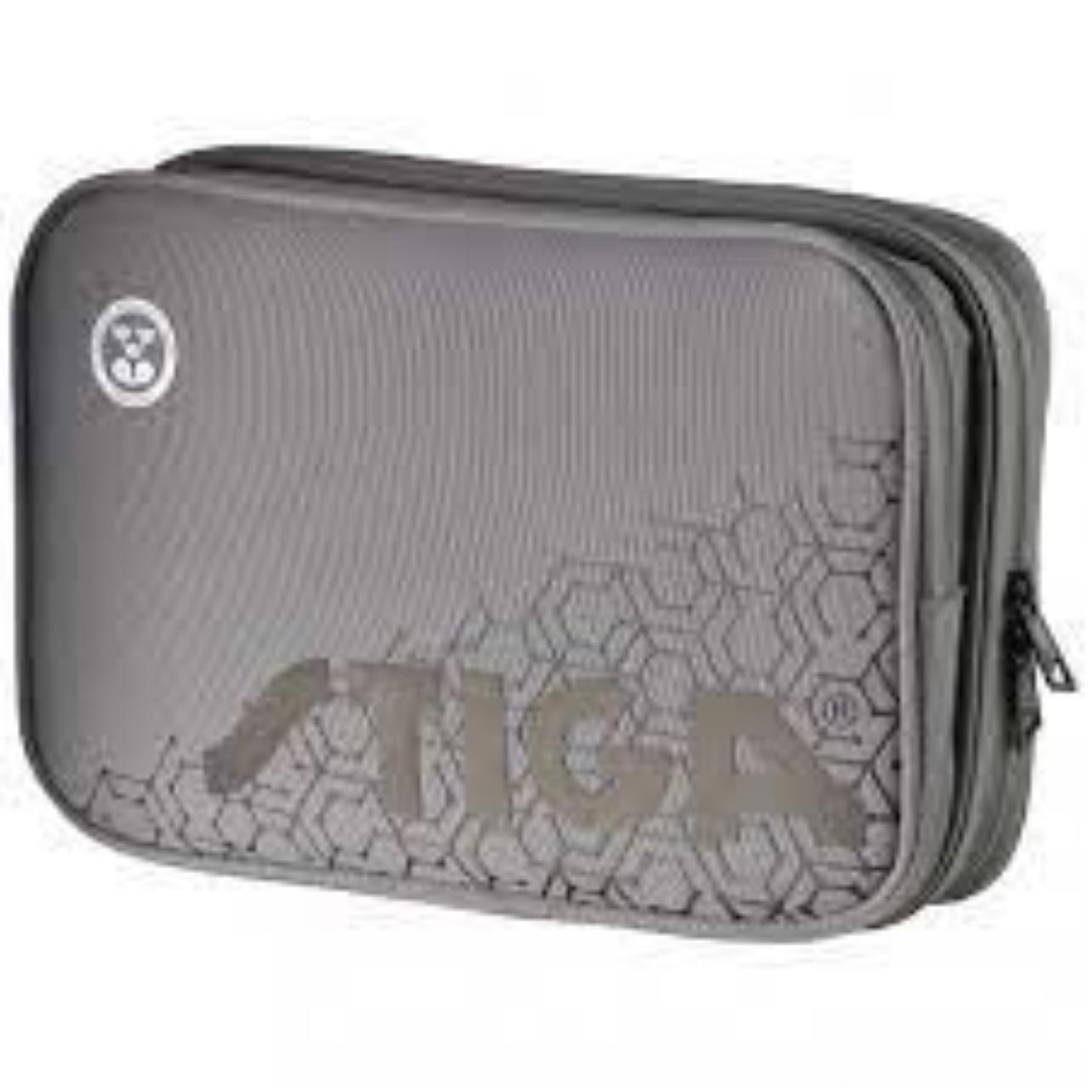wallet: (24, 140, 1089, 1012)
